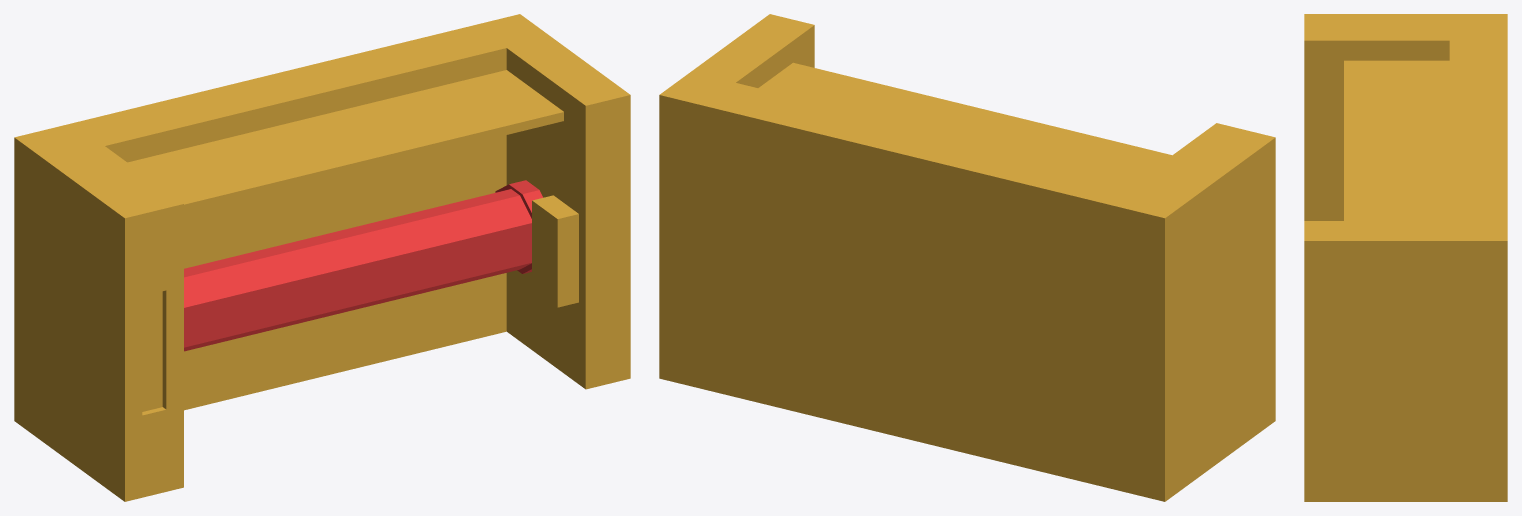
File: WipeScreener.fbx
3 views of the same model, side by side, from view 1: azimuth 30°, elevation 25°; view 2: azimuth 150°, elevation 25°; view 3: azimuth 270°, elevation 25° (orthographic). The views are drawn at different scales.
Parts seen in each view (by area): view 1: Cube.026, Cube.031; view 2: Cube.026; view 3: Cube.026.
Part boxes in pixels (left/top/right/bottom): Cube.026: left=14, top=14, right=630, bottom=501; Cube.031: left=184, top=180, right=542, bottom=351; Cube.026: left=659, top=14, right=1275, bottom=501; Cube.026: left=1304, top=14, right=1507, bottom=501.
Size of the model in its own units: 89.32 by 47.87 by 33.82.
